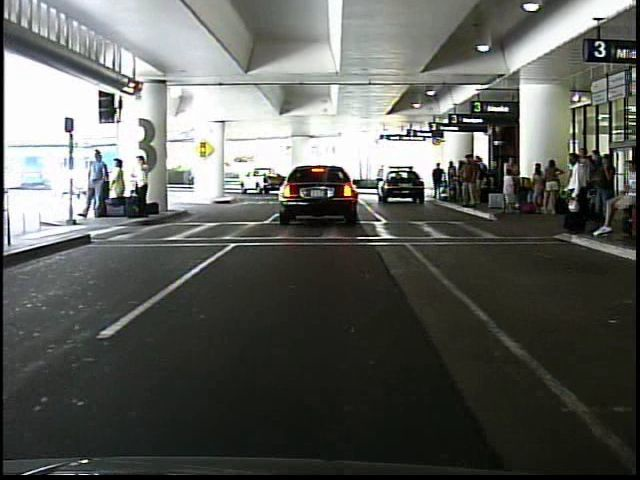person: (551, 145, 599, 246), (82, 148, 112, 224), (134, 152, 152, 220), (111, 157, 130, 213), (431, 162, 447, 202)
